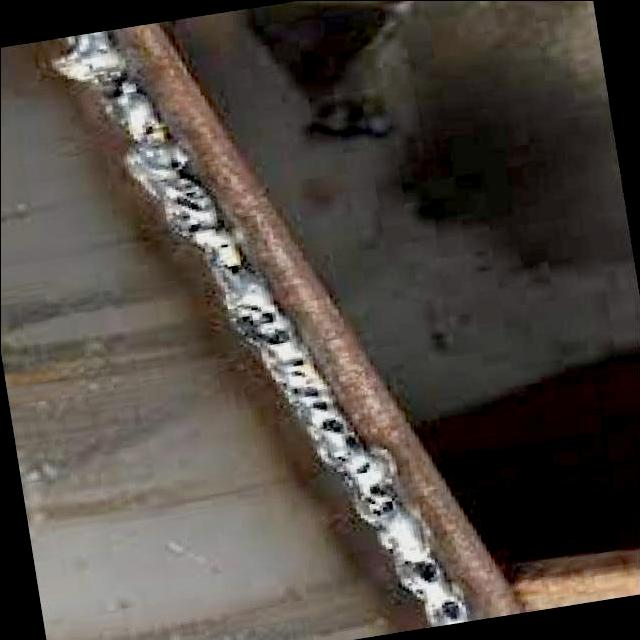defect: (161, 177, 212, 238), (233, 300, 294, 347), (287, 354, 333, 413), (351, 476, 403, 521), (318, 410, 364, 450), (397, 553, 441, 583), (426, 595, 468, 624), (103, 64, 135, 100), (159, 149, 189, 173), (217, 258, 245, 277), (351, 458, 376, 476), (139, 122, 158, 139), (218, 241, 232, 249)
